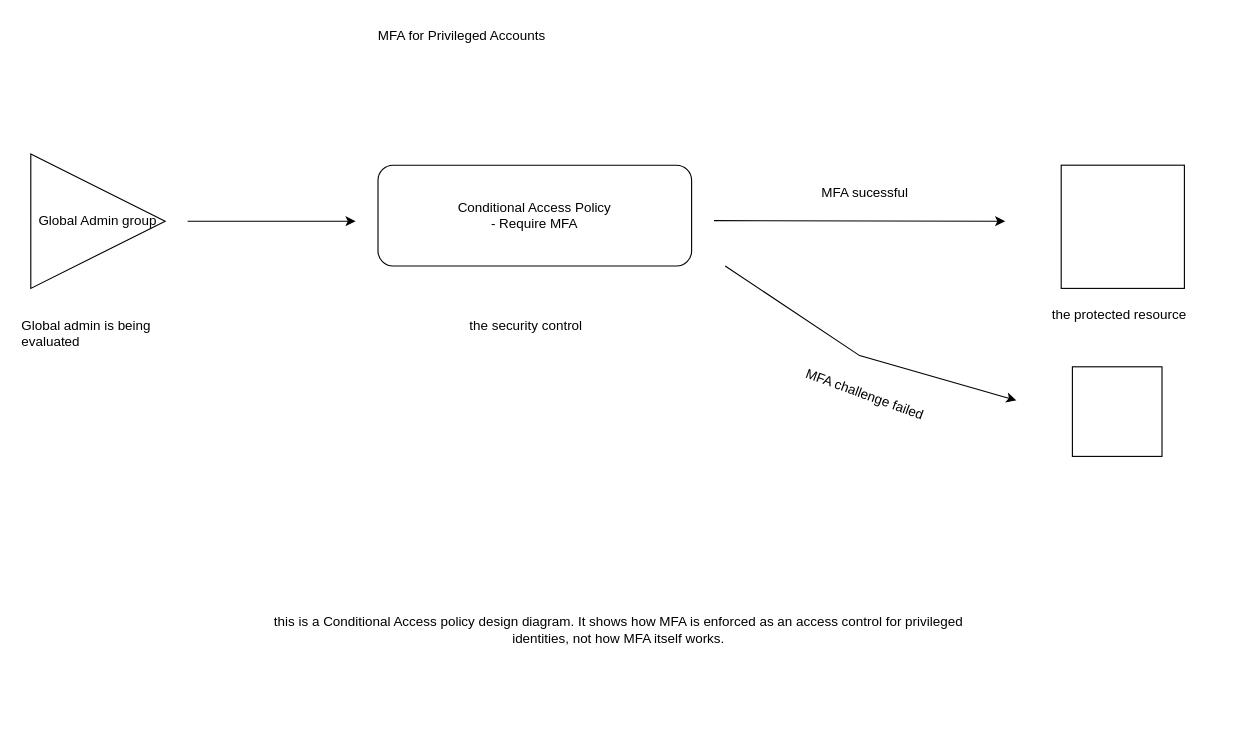
Image size: 1248x744. Some labels were removed from this diagram. The shapes that lost their labels are listed below. From the top down, each one's centre as x and y in pixels, then its label:
At point (1122, 226): "Cloud Apps".
At point (1116, 411): "Denied".
